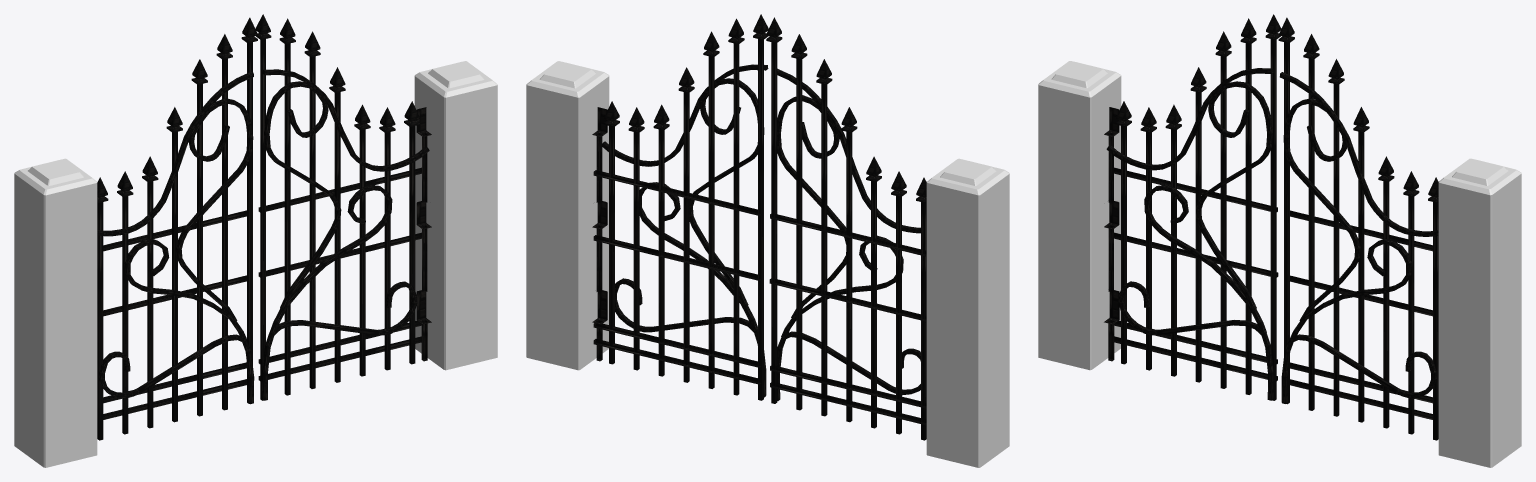
3 views of the same model, side by side, from view 1: azimuth 30°, elevation 25°; view 2: azimuth 150°, elevation 25°; view 3: azimuth 330°, elevation 25° (orthographic).
Parts seen in each view (by area): view 1: zabor_Cube_000, kolonny_Cube_000; view 2: zabor_Cube_000, kolonny_Cube_000; view 3: zabor_Cube_000, kolonny_Cube_000.
Boxes of the visible parts, x1,y1,x2,y2 form: zabor_Cube_000: [97, 14, 431, 440]; kolonny_Cube_000: [14, 61, 497, 467]; zabor_Cube_000: [592, 14, 926, 440]; kolonny_Cube_000: [526, 61, 1009, 467]; zabor_Cube_000: [1104, 14, 1438, 440]; kolonny_Cube_000: [1038, 61, 1521, 467].
Bounding box in the file's own units: 638 × 519 × 75.5.
2 materials, 1 textured.
